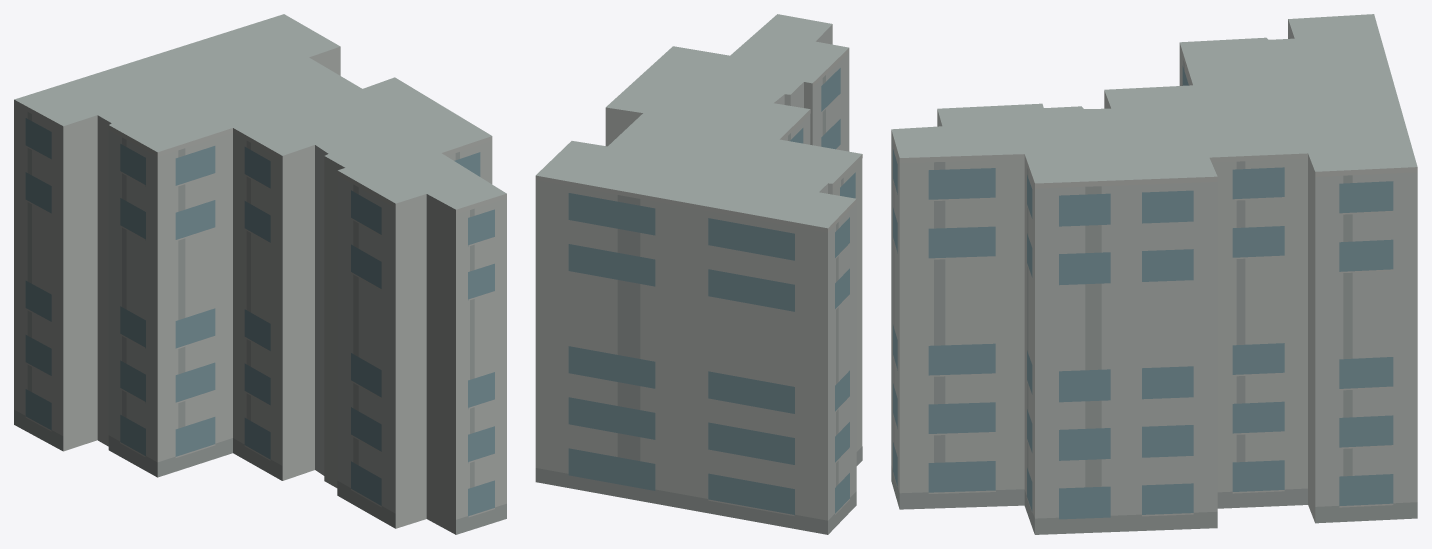
File: survey-upis-32750447.glb
3 views of the same model, side by side, from view 1: azimuth 30°, elevation 25°; view 2: azimuth 150°, elevation 25°; view 3: azimuth 270°, elevation 25° (orthographic). The views are drawn at different scales.
Parts seen in each view (by area): view 1: survey-upis-32750447.tmp; view 2: survey-upis-32750447.tmp; view 3: survey-upis-32750447.tmp.
Boxes of the visible parts, x1,y1,x2,y2 form: survey-upis-32750447.tmp: (14,14,506,534); survey-upis-32750447.tmp: (535,14,862,534); survey-upis-32750447.tmp: (891,14,1417,534).
Size of the model in its own units: 17.07 by 16.5 by 22.4.
